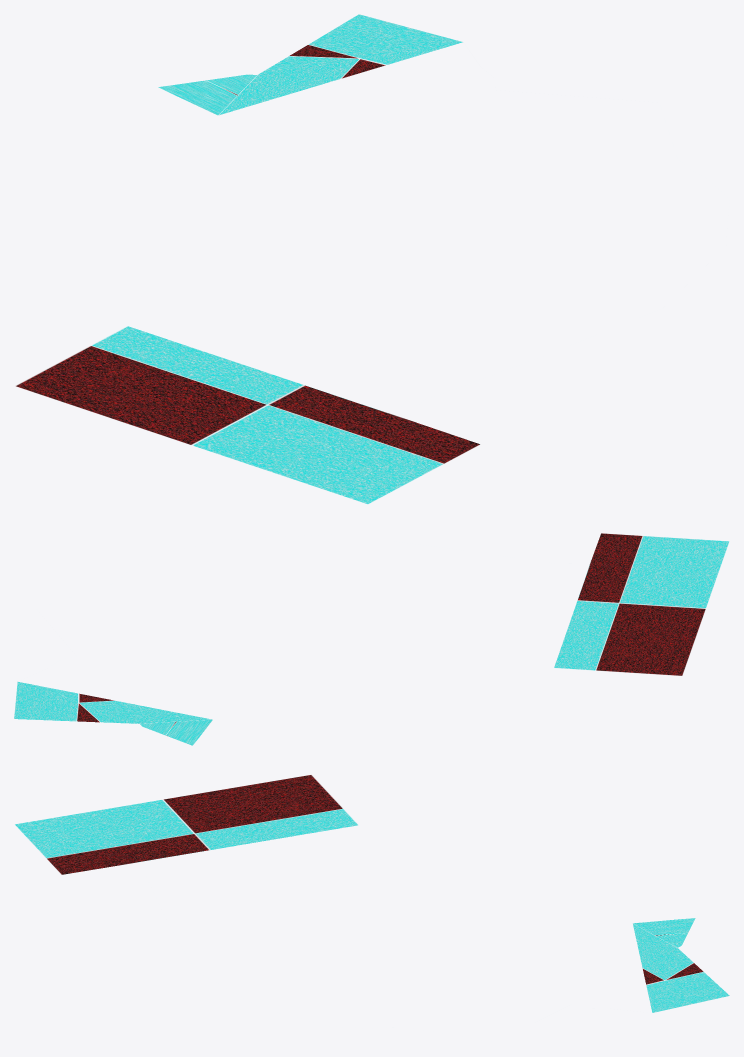
The picture shows the model from 3 angles, top to bottom: view 1: azimuth 30°, elevation 25°; view 2: azimuth 150°, elevation 25°; view 3: azimuth 270°, elevation 25°; orthographic projection. The views are drawn at different scales.
Visible parts, largest first — view 1: SM_VFX_DreamStone_Sphere_LOD0; view 2: SM_VFX_DreamStone_Sphere_LOD0; view 3: SM_VFX_DreamStone_Sphere_LOD0.
Part boxes in pixels (x1,y1,x2,y2): SM_VFX_DreamStone_Sphere_LOD0: [16, 14, 479, 503]; SM_VFX_DreamStone_Sphere_LOD0: [14, 533, 729, 745]; SM_VFX_DreamStone_Sphere_LOD0: [15, 775, 729, 1012].
Bounding box in the file's own units: 106 × 0.1381 × 119.
